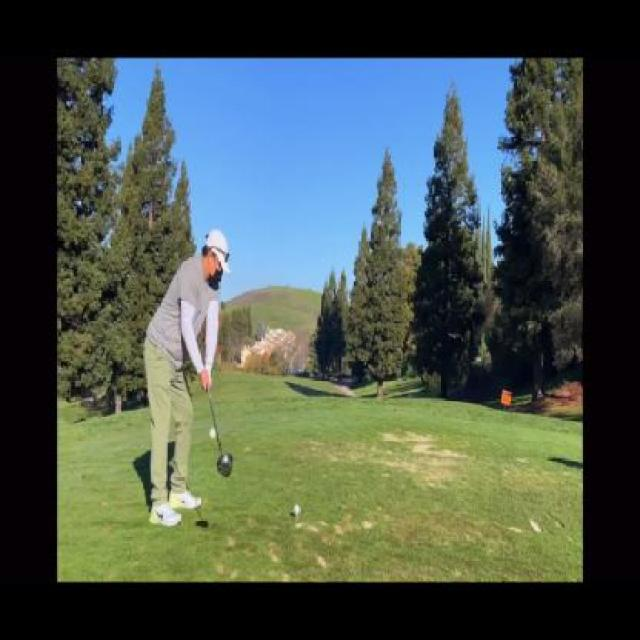club head: (214, 450, 234, 479)
